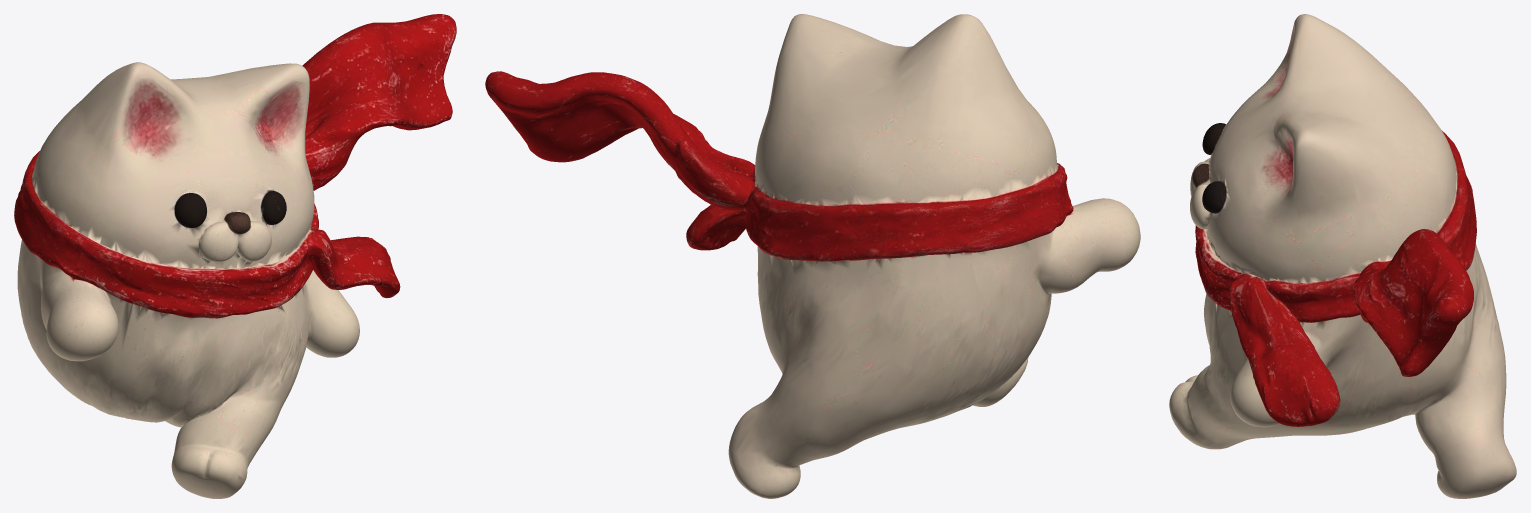
Rendered from hearth-cat.glb.
3 views of the same model, side by side, from view 1: azimuth 30°, elevation 25°; view 2: azimuth 150°, elevation 25°; view 3: azimuth 270°, elevation 25° (orthographic). The views are drawn at different scales.
Bounding box in the file's own units: 1.9 × 1.48 × 1.1.
Materials: 1 (1 with a texture image).
